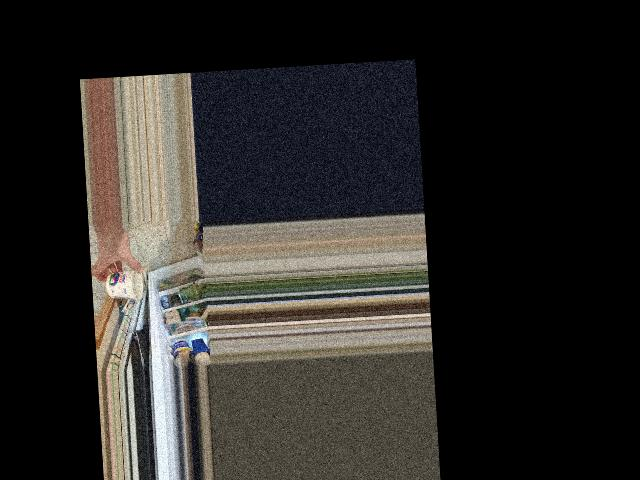cotage: (104, 269, 137, 295)
